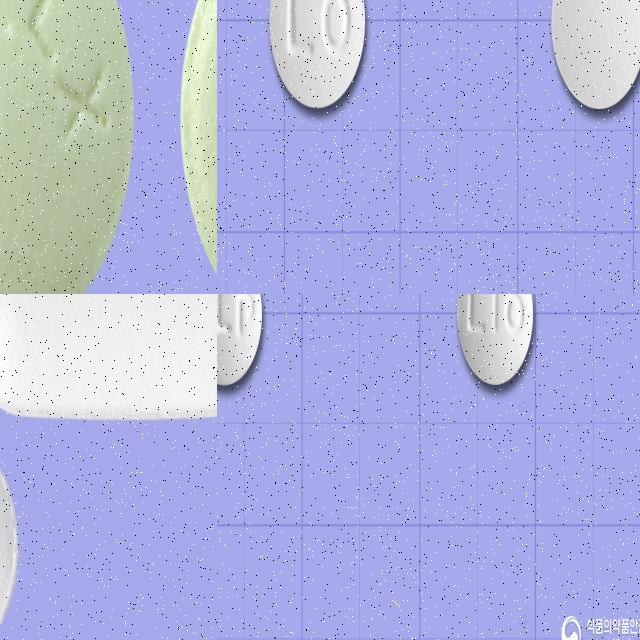Lebofacin: (269, 0, 366, 109), (551, 0, 640, 108)
Lerocin: (0, 0, 136, 294)
Luarva - 20mg: (457, 294, 534, 388), (217, 294, 265, 387)
Vancozin Cap: (0, 294, 217, 424)
